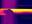Hotspot: (10, 9, 31, 13)
